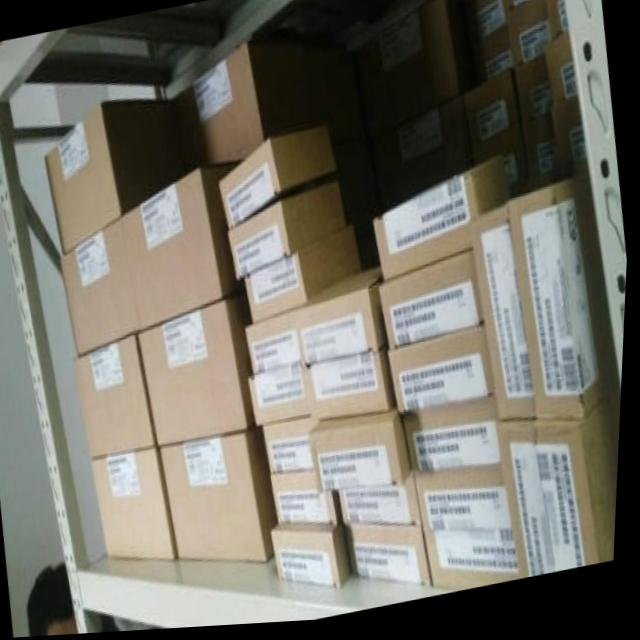box: (46, 89, 207, 256), (509, 184, 614, 433), (124, 162, 249, 331), (142, 290, 261, 450), (375, 155, 513, 286), (468, 208, 540, 431), (163, 432, 282, 566), (539, 398, 622, 580), (248, 274, 387, 379), (230, 184, 351, 279), (220, 130, 338, 227), (247, 228, 365, 324), (76, 336, 162, 460), (64, 222, 144, 352), (384, 251, 486, 351), (96, 450, 183, 565), (392, 330, 499, 416), (313, 412, 418, 497), (503, 429, 559, 585), (195, 43, 267, 162), (408, 394, 508, 477), (306, 347, 400, 428), (429, 534, 528, 597), (420, 472, 517, 536), (350, 530, 437, 592), (277, 527, 357, 593), (343, 473, 427, 533), (252, 372, 316, 432), (277, 476, 343, 532), (549, 98, 593, 181), (268, 426, 324, 478), (547, 42, 580, 103), (508, 0, 548, 37)
